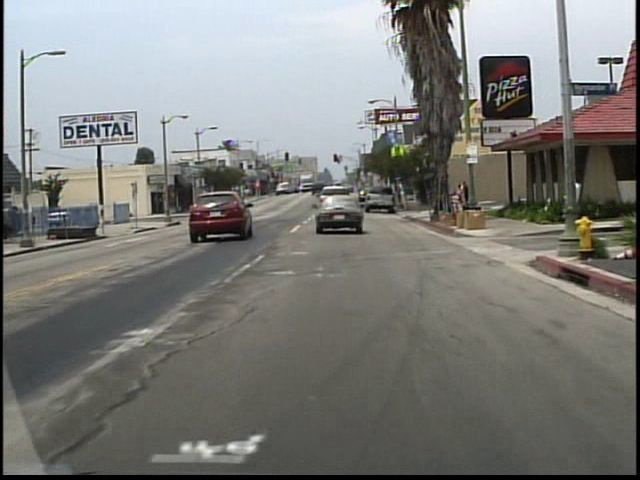person: (462, 182, 471, 211), (457, 184, 464, 208)
